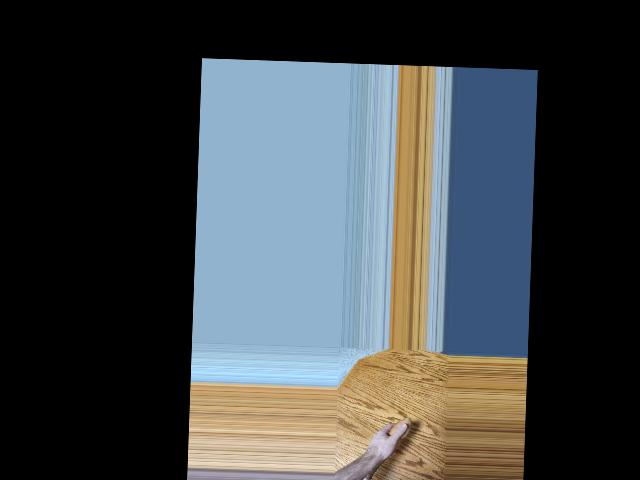sweet_potato: (366, 415, 412, 480)
